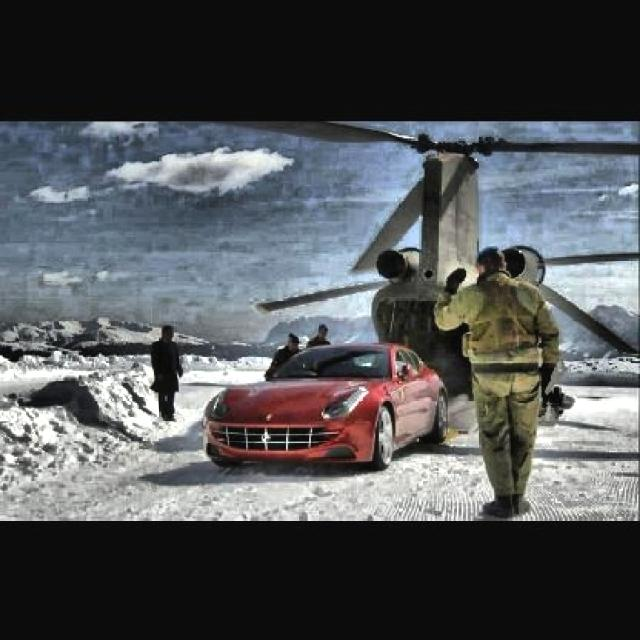maroon: (201, 336, 437, 472)
